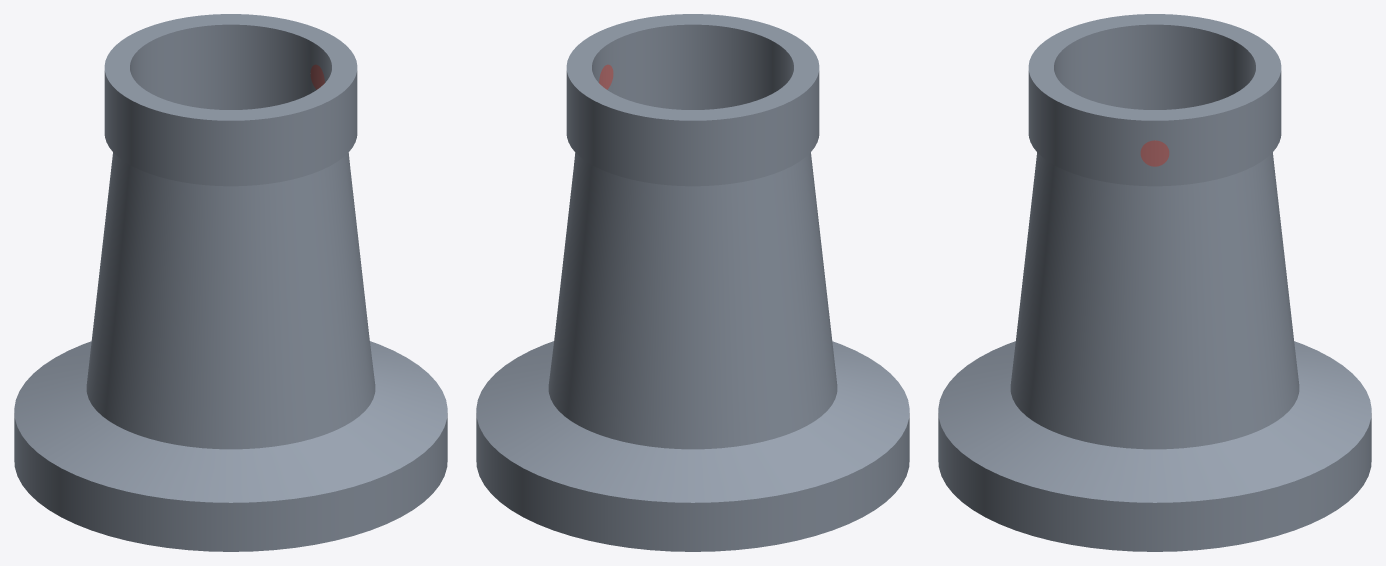
Rendered from step_02.glb.
3 views of the same model, side by side, from view 1: azimuth 30°, elevation 25°; view 2: azimuth 150°, elevation 25°; view 3: azimuth 270°, elevation 25° (orthographic).
Parts seen in each view (by area): view 1: part__body; view 2: part__body; view 3: part__body, removed__body.
Boxes of the visible parts, box(x1,y1,x2,y2) form: part__body: box(14, 14, 447, 551); part__body: box(476, 14, 909, 551); part__body: box(938, 14, 1371, 551); removed__body: box(1140, 140, 1169, 166).
Size of the model in its own units: 120 by 120 by 120.
